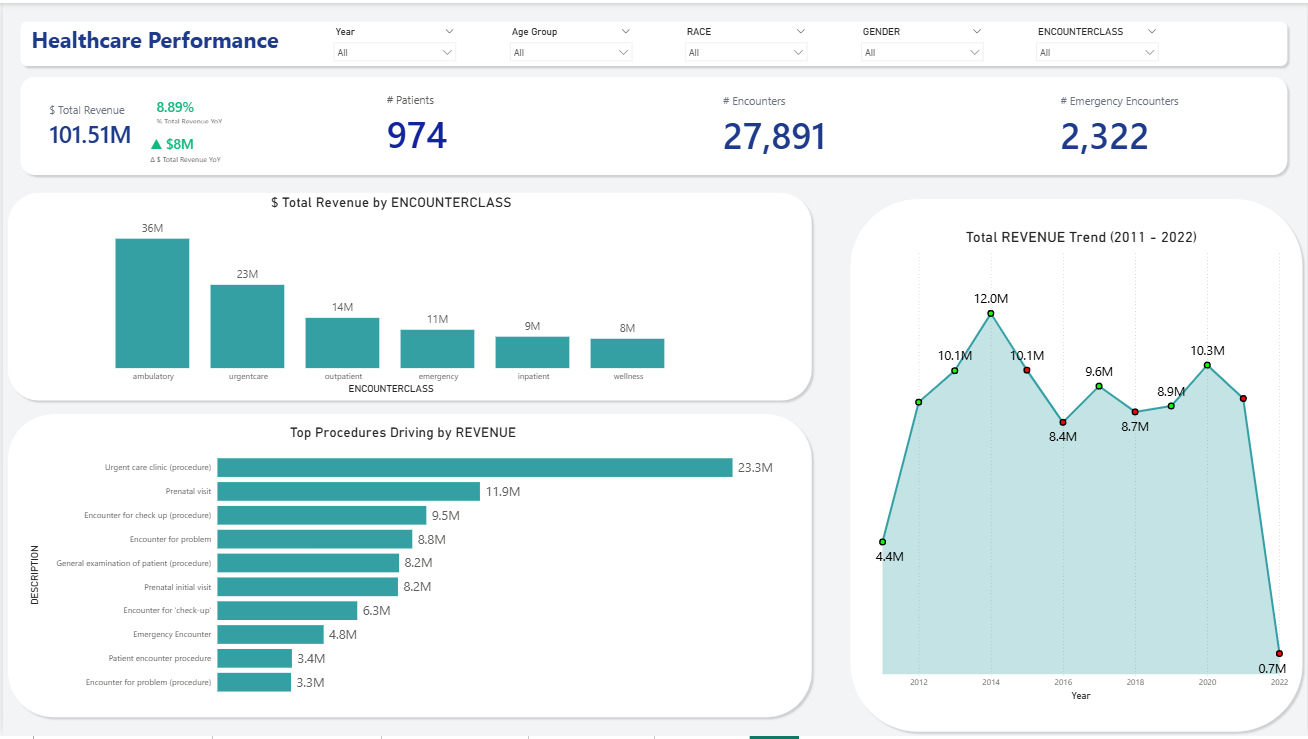

This screenshot's page, from the dashboard's own definition file:
{"tool":"powerbi","page":{"name":"Financial Position","canvas":[1920,1080],"ordinal":1},"visuals":[{"type":"cardVisual","fields":{"Data":["_Measures.$ Total Claim Cost"]},"box":[46.7,111.9,317.5,137.5],"z":0,"group":"g1"},{"type":"shape","box":[0,272.4,1197.8,320],"z":0},{"type":"shape","box":[18.4,100.9,1879.6,159.2],"z":1000},{"type":"cardVisual","fields":{"Data":["_Measures.Δ $ Total Cost YoY"]},"box":[188.9,178.3,167.5,73.6],"z":1000,"group":"g1"},{"type":"cardVisual","fields":{"Data":["_Measures.# Encounters"]},"box":[1038.5,111.5,317.1,137.1],"z":2000},{"type":"shape","box":[0,598.9,1197.8,460.5],"z":3000},{"type":"shape","box":[1240,281.7,680,798.3],"z":4000},{"type":"cardVisual","fields":{"Data":["_Measures.# Emergency Encounters"]},"box":[1534.3,111.5,317.1,137.1],"z":5000},{"type":"group","id":"g1","title":"Group 1","box":[46.7,111.9,317.5,140.1],"z":5000,"group":"g2"},{"type":"cardVisual","fields":{"Data":["_Measures.# Patients"]},"box":[542.9,111.3,317,137.7],"z":6000},{"type":"areaChart","title":"Total REVENUE Trend (2011 - 2022)","fields":{"Category":["Calendar.Year"],"Y":["_Measures.$ Total Revenue"]},"box":[1277.3,331.3,620.2,701.2],"z":7000},{"type":"clusteredBarChart","title":"Top Procedures Driving by REVENUE","fields":{"Category":["encounters.DESCRIPTION"],"Y":["_Measures.$ Total Revenue"]},"box":[33.3,620,1111.7,413.3],"z":8000},{"type":"clusteredColumnChart","fields":{"Category":["encounters.ENCOUNTERCLASS"],"Y":["_Measures.$ Total Claim Cost"]},"box":[105,281.7,933.3,300],"z":9000},{"type":"shape","box":[18.4,20.4,1879.6,79.6],"z":10000},{"type":"textbox","box":[36.7,27.8,381.7,65],"z":11000},{"type":"slicer","fields":{"Values":["Calendar.Year"]},"box":[477,29.4,200,61.7],"z":12000},{"type":"slicer","fields":{"Values":["patients.Age Group"]},"box":[735.7,29.4,200,61.7],"z":13000},{"type":"slicer","fields":{"Values":["patients.RACE"]},"box":[994.3,29.4,200,61.7],"z":14000},{"type":"slicer","fields":{"Values":["patients.GENDER"]},"box":[1253,29.4,200,61.7],"z":15000},{"type":"slicer","fields":{"Values":["encounters.ENCOUNTERCLASS"]},"box":[1511.7,29.4,200,61.7],"z":16000},{"type":"group","id":"g2","title":"Group 2","box":[46.7,111.9,317.7,140.1],"z":17000},{"type":"cardVisual","fields":{"Data":["_Measures.% Total Revenue YoY"]},"box":[196.9,125.2,167.5,69.9],"z":17001,"group":"g2"}]}

Visuals, with their boxes in screenshot pixels (x1, y1, x2, y2), scaled from the page's 1920x1080 canvas onto the 1308x739 screenshot:
cardVisual - _Measures.$ Total Claim Cost: BBox(32, 77, 248, 171)
shape: BBox(0, 186, 816, 405)
shape: BBox(13, 69, 1293, 178)
cardVisual - _Measures.Δ $ Total Cost YoY: BBox(129, 122, 243, 172)
cardVisual - _Measures.# Encounters: BBox(707, 76, 924, 170)
shape: BBox(0, 410, 816, 725)
shape: BBox(845, 193, 1307, 738)
cardVisual - _Measures.# Emergency Encounters: BBox(1045, 76, 1261, 170)
"Group 1" group: BBox(32, 77, 248, 172)
cardVisual - _Measures.# Patients: BBox(370, 76, 586, 170)
"Total REVENUE Trend (2011 - 2022)" areaChart: BBox(870, 227, 1293, 706)
"Top Procedures Driving by REVENUE" clusteredBarChart: BBox(23, 424, 780, 707)
clusteredColumnChart - encounters.ENCOUNTERCLASS x _Measures.$ Total Claim Cost: BBox(72, 193, 707, 398)
shape: BBox(13, 14, 1293, 68)
textbox: BBox(25, 19, 285, 63)
slicer - Calendar.Year: BBox(325, 20, 461, 62)
slicer - patients.Age Group: BBox(501, 20, 637, 62)
slicer - patients.RACE: BBox(677, 20, 814, 62)
slicer - patients.GENDER: BBox(854, 20, 990, 62)
slicer - encounters.ENCOUNTERCLASS: BBox(1030, 20, 1166, 62)
"Group 2" group: BBox(32, 77, 248, 172)
cardVisual - _Measures.% Total Revenue YoY: BBox(134, 86, 248, 133)
